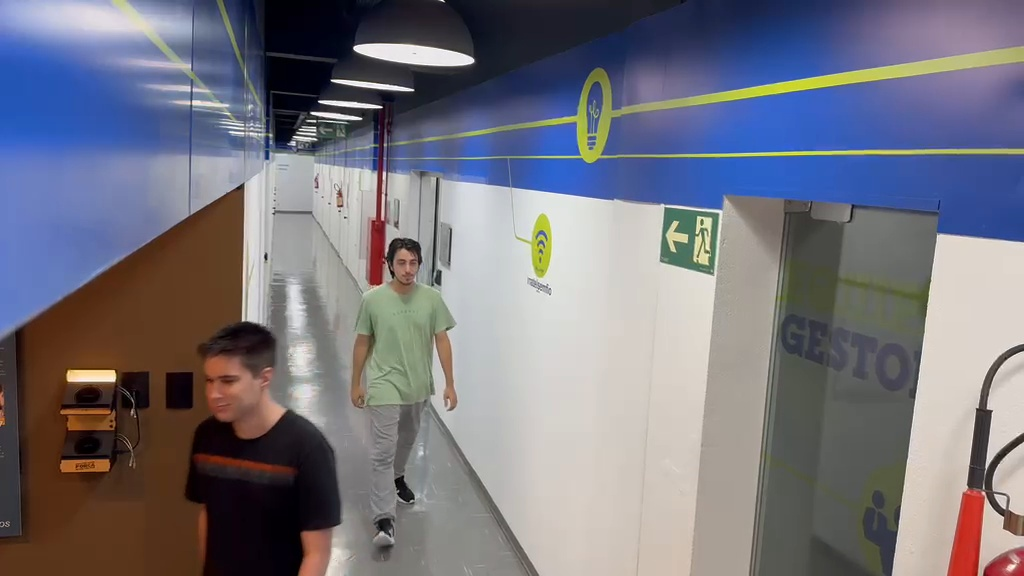person: (185, 321, 343, 574), (349, 237, 459, 545)
